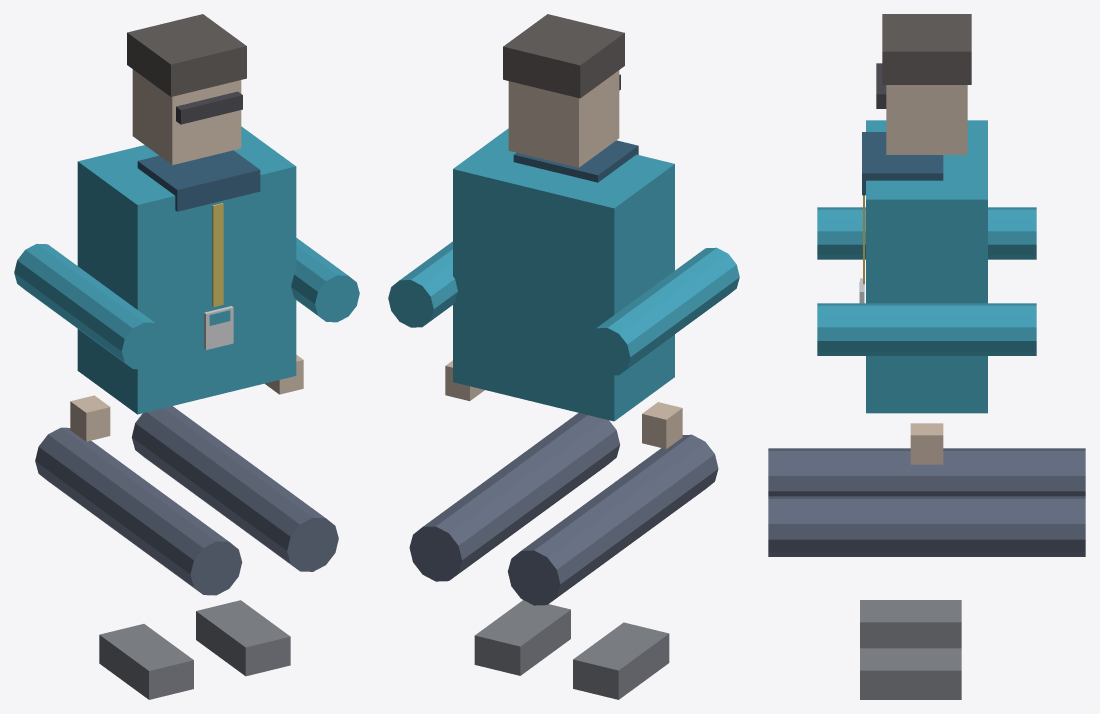
Rendered from character_davide.glb.
The picture shows the model from 3 angles, left to right: view 1: azimuth 30°, elevation 25°; view 2: azimuth 150°, elevation 25°; view 3: azimuth 270°, elevation 25°; orthographic projection. The views are drawn at different scales.
Parts seen in each view (by area): view 1: geometry_0; view 2: geometry_0; view 3: geometry_0.
Boxes of the visible parts, x1,y1,x2,y2 form: geometry_0: (14, 14, 359, 699); geometry_0: (388, 14, 739, 699); geometry_0: (768, 14, 1085, 699).
Bounding box in the file's own units: 0.69 × 1.72 × 0.78.
